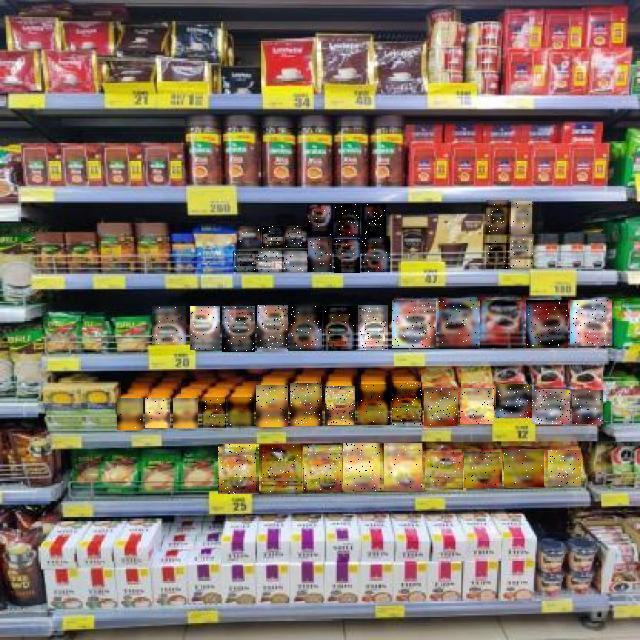Coffee: (392, 300, 436, 348), (480, 300, 523, 348), (218, 444, 259, 494), (526, 300, 568, 348), (261, 445, 302, 493), (439, 299, 478, 349), (571, 300, 613, 346), (303, 445, 342, 493), (384, 443, 422, 491), (344, 443, 382, 491), (222, 306, 255, 352), (289, 306, 322, 351), (504, 450, 544, 487), (425, 452, 463, 490), (324, 306, 356, 351), (257, 306, 288, 352), (290, 383, 322, 426), (464, 452, 502, 488), (358, 305, 388, 350), (257, 385, 289, 427), (191, 307, 221, 351), (358, 384, 390, 425), (152, 307, 186, 345), (424, 388, 458, 426), (533, 390, 571, 424), (392, 384, 422, 426), (496, 384, 532, 418), (461, 388, 495, 424), (548, 451, 581, 487), (325, 386, 355, 425), (572, 390, 603, 424), (362, 237, 390, 273), (335, 238, 361, 273), (307, 204, 333, 236), (117, 398, 143, 430), (308, 239, 332, 273), (335, 204, 360, 236), (486, 200, 509, 234), (510, 235, 533, 269), (486, 234, 508, 269), (362, 204, 386, 236), (228, 397, 254, 426), (173, 398, 198, 428), (145, 398, 170, 428), (202, 397, 226, 428), (511, 201, 532, 234), (237, 226, 260, 248), (258, 251, 282, 272), (285, 226, 307, 248), (262, 226, 284, 248), (284, 251, 307, 272), (233, 251, 256, 272)
